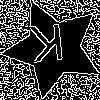K: (28, 23, 67, 73)
